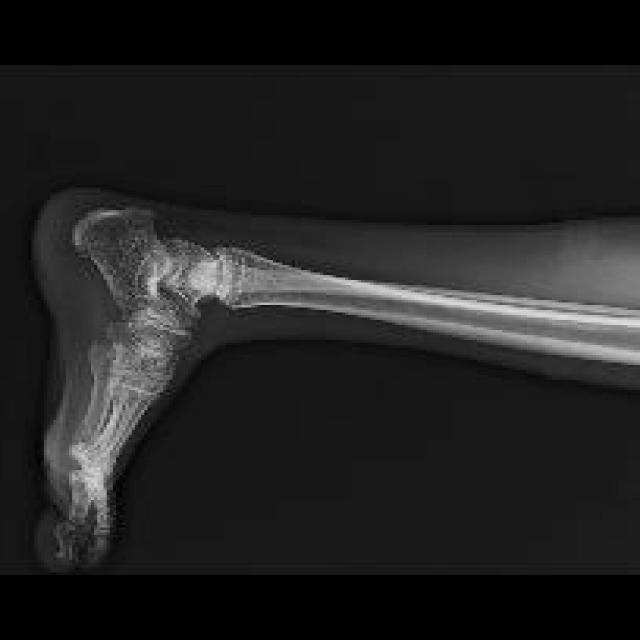normal: (50, 209, 638, 563)
